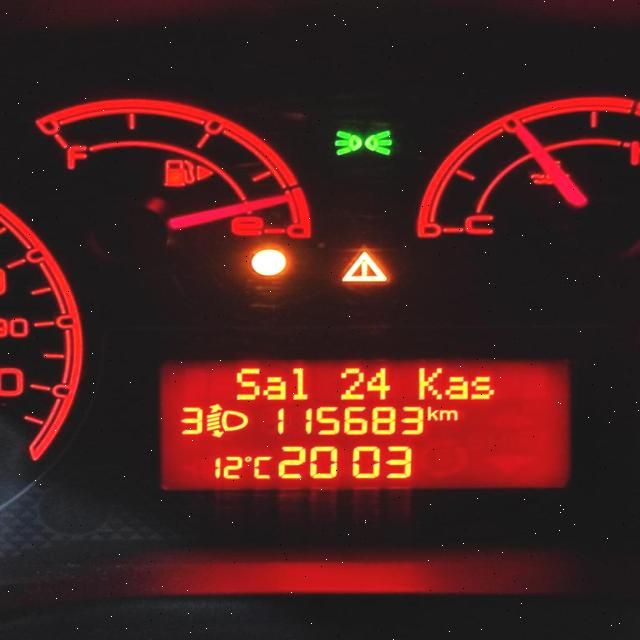odometer: (156, 356, 576, 492)
